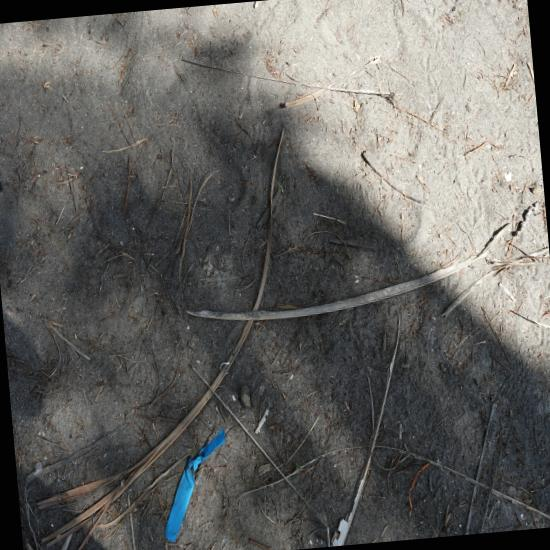Corrugated carton: (330, 309, 399, 546)
Other plastic bottle: (164, 427, 225, 542)
